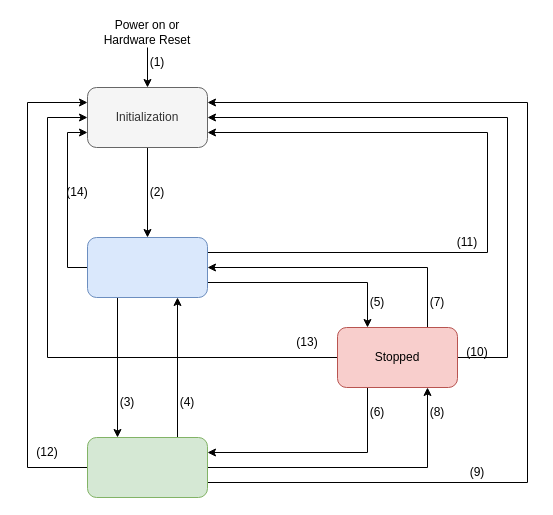
This 553x515 diagram has some shape labels left out. Here are the shapes that lost their labels. From the top down, the centre of each, then its label:
point (147, 267): Pre-Operational
point (147, 467): Operational
